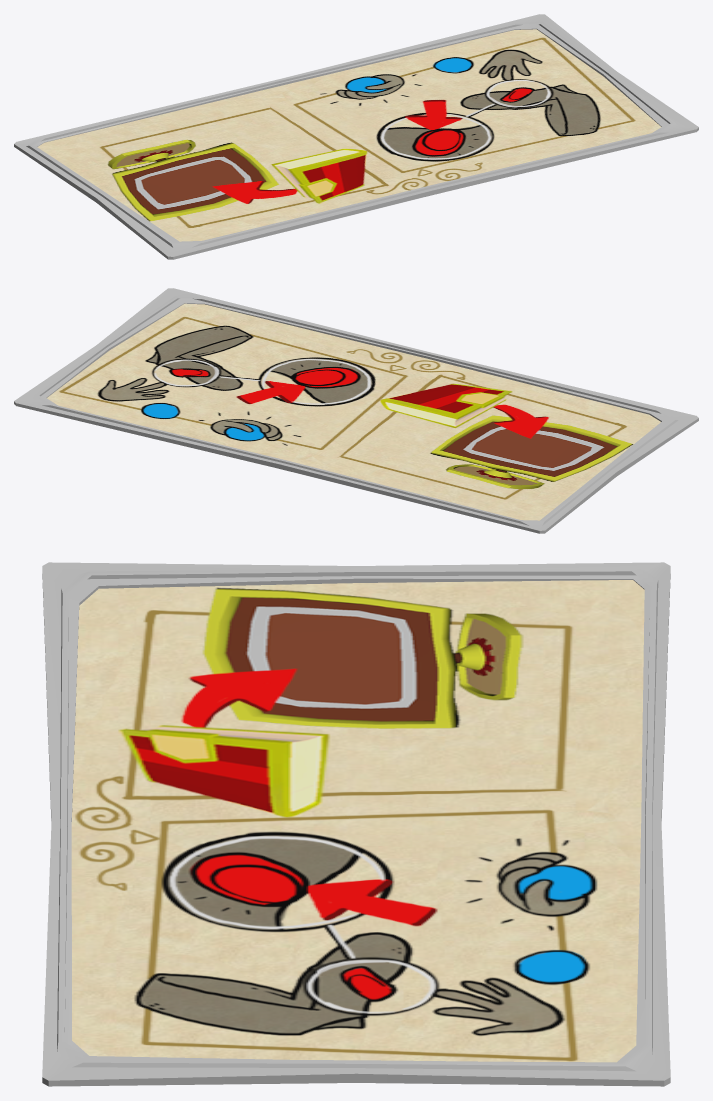
Rendered from InstructionsGrabAndBook.fbx.
3 renders of one model, top to bottom at view 1: azimuth 30°, elevation 25°; view 2: azimuth 150°, elevation 25°; view 3: azimuth 270°, elevation 25°, orthographic. The views are drawn at different scales.
Visible parts, largest first — view 1: instructionsPaper, instructionsFrame; view 2: instructionsPaper, instructionsFrame; view 3: instructionsPaper, instructionsFrame.
Part boxes in pixels (bbox=[...]): instructionsPaper: bbox=[37, 29, 661, 241]; instructionsFrame: bbox=[14, 14, 698, 259]; instructionsPaper: bbox=[47, 303, 660, 520]; instructionsFrame: bbox=[14, 288, 698, 533]; instructionsPaper: bbox=[71, 580, 644, 1062]; instructionsFrame: bbox=[42, 562, 670, 1086].
Size of the model in its own units: 69.1 by 1.03 by 35.41.
